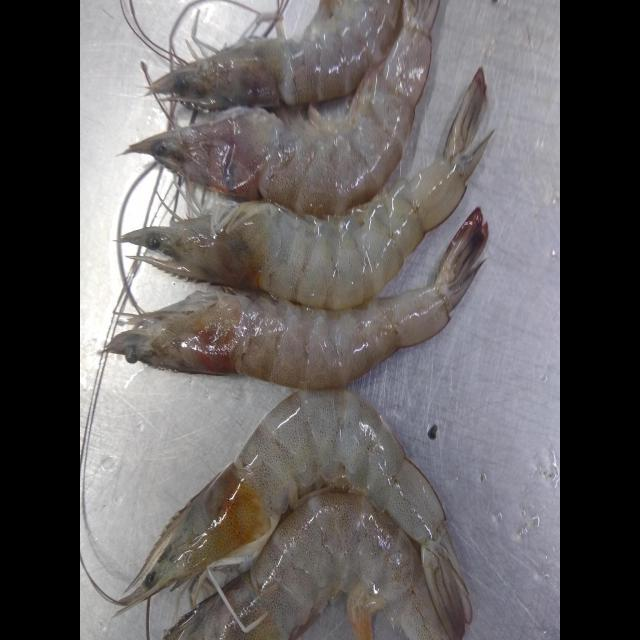shrimp: (119, 68, 494, 309), (117, 389, 473, 640), (104, 208, 488, 389), (124, 0, 440, 215), (164, 490, 450, 640), (149, 0, 402, 108)
